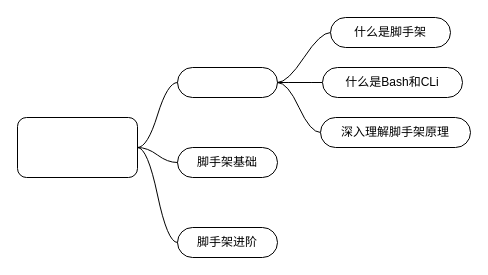
Some shapes in this 488 by 275 pixel diagram are drawn without their labels. Here are the shapes that lost their labels. From the top down, the centre of each, then its label:
At pixel 227 82: "基本概念".
At pixel 77 147: "前端脚手架开发方式".
